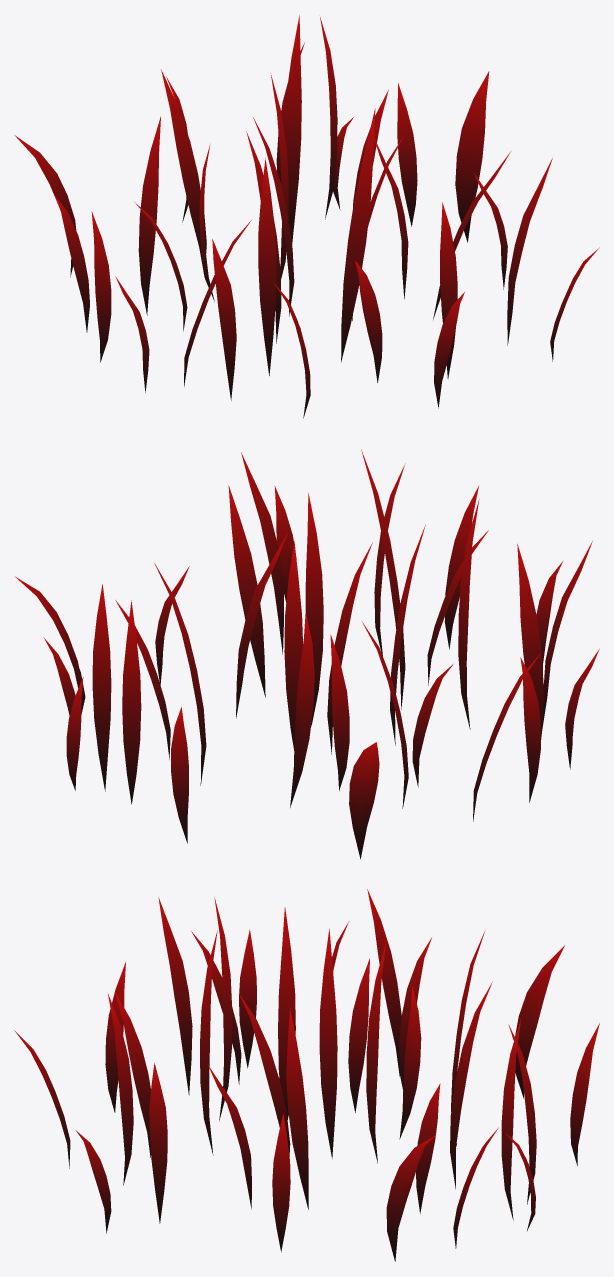
Rendered from GrassZNo.fbx.
3 renders of one model, top to bottom at view 1: azimuth 30°, elevation 25°; view 2: azimuth 150°, elevation 25°; view 3: azimuth 270°, elevation 25°, orthographic. The views are drawn at different scales.
Parts seen in each view (by area): view 1: Grass; view 2: Grass; view 3: Grass.
Boxes of the visible parts, x1,y1,x2,y2 form: Grass: [14, 15, 599, 418]; Grass: [15, 449, 599, 859]; Grass: [14, 889, 599, 1261].
Size of the model in its own units: 6.27 by 3.12 by 6.74.
